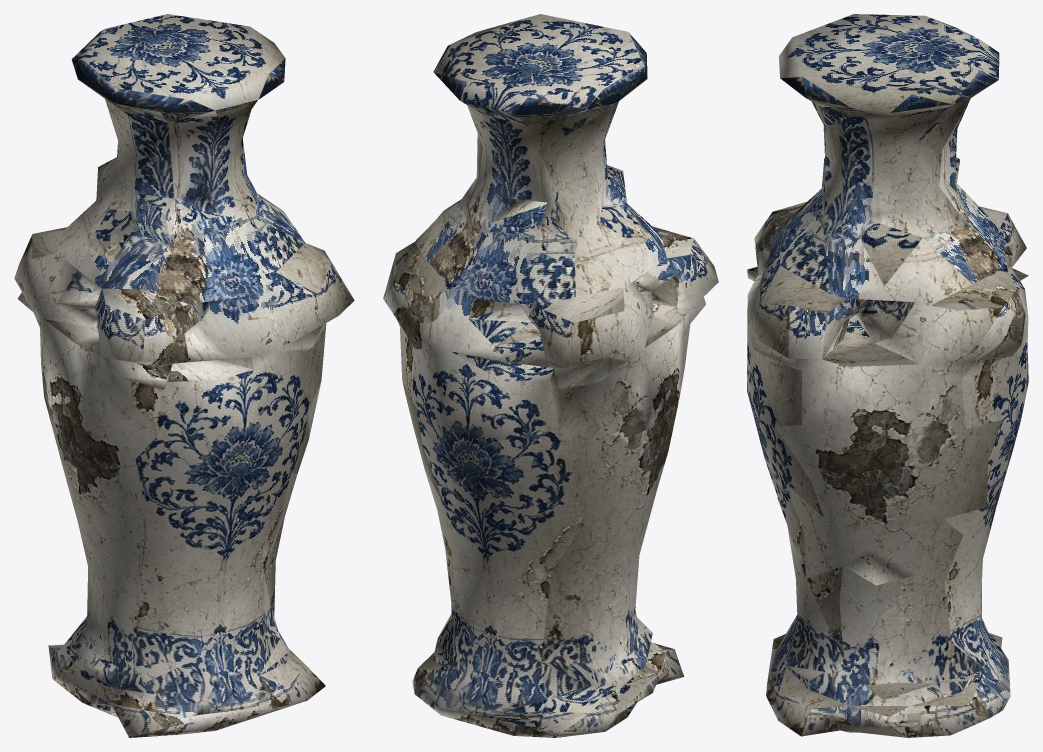
The model's file is vase_high.glb.
3 views of the same model, side by side, from view 1: azimuth 30°, elevation 25°; view 2: azimuth 150°, elevation 25°; view 3: azimuth 270°, elevation 25° (orthographic).
Visible parts, largest first — view 1: vase_high; view 2: vase_high; view 3: vase_high.
Part boxes in pixels (box(x1,y1,x2,y2)): vase_high: box(14, 14, 354, 737); vase_high: box(383, 14, 718, 737); vase_high: box(747, 14, 1028, 737).
Size of the model in its own units: 0.3968 by 0.999 by 0.3907.
1 material, 1 textured.
